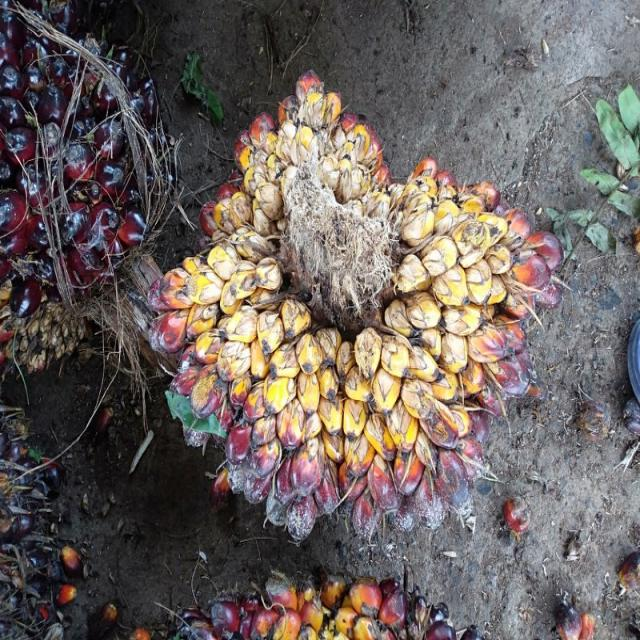fraksi 1: (158, 70, 564, 532)
